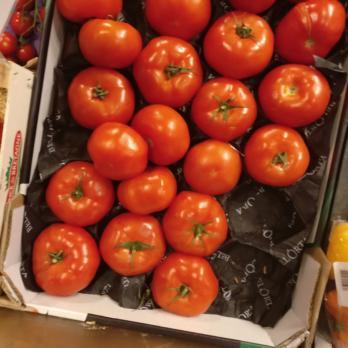Tomato: (20, 0, 343, 322)
